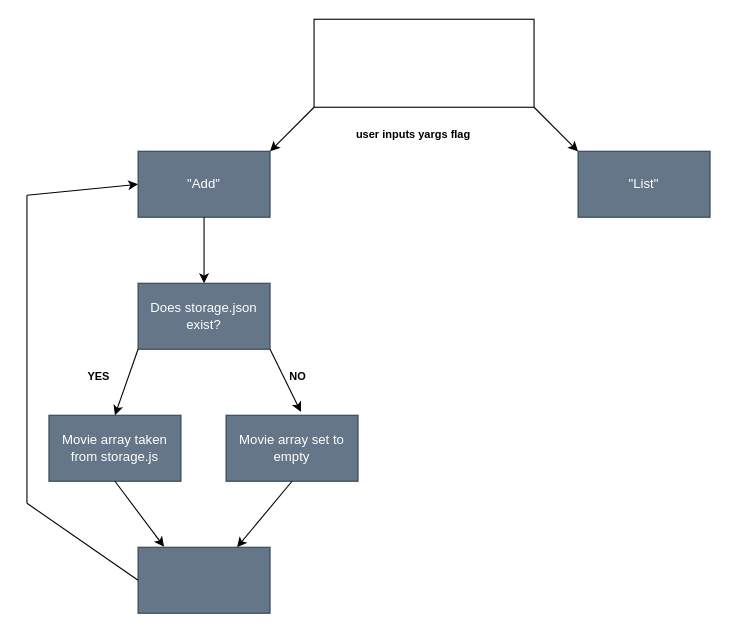
Some shapes in this 729 by 633 pixel diagram are drawn without their labels. Here are the shapes that lost their labels. From the top down, the box of each, then its label:
(313, 18, 534, 107): Terminal: Type of Command?
(137, 546, 270, 613): addMovie()
